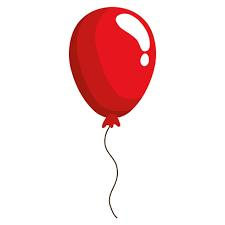red: (70, 5, 155, 127)
